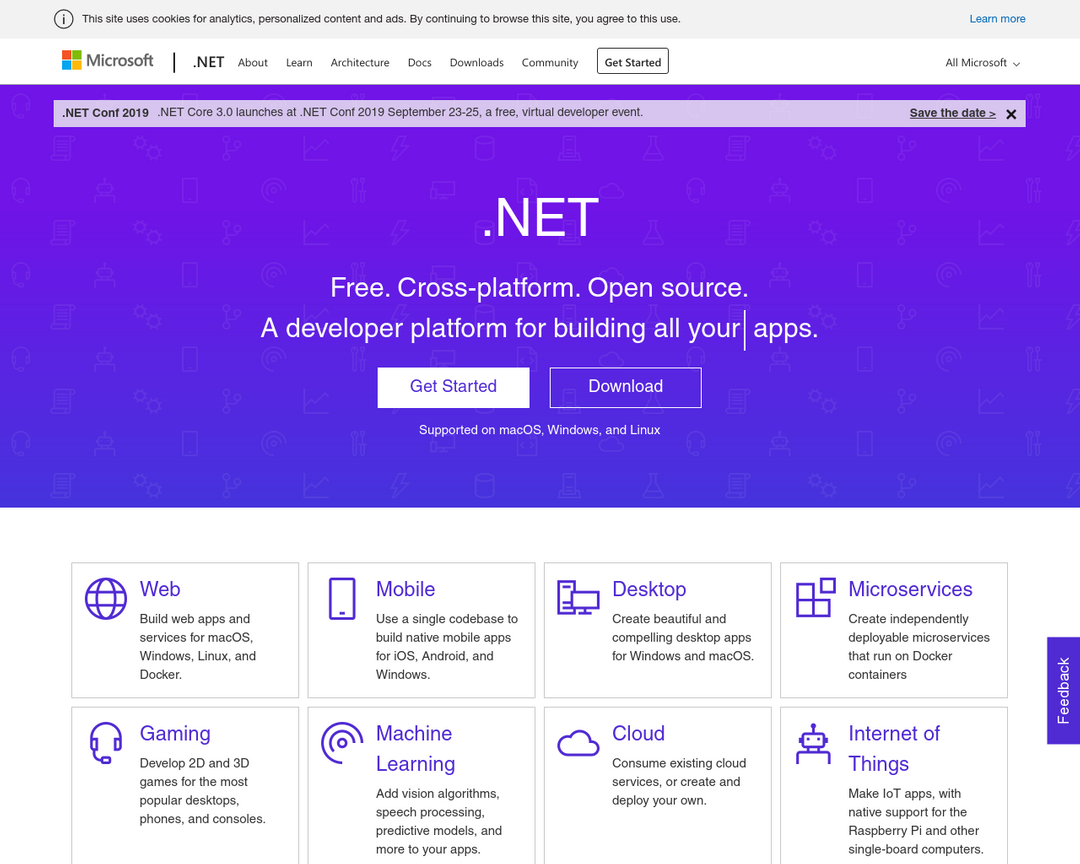Microsoft: (52, 44, 85, 74)
